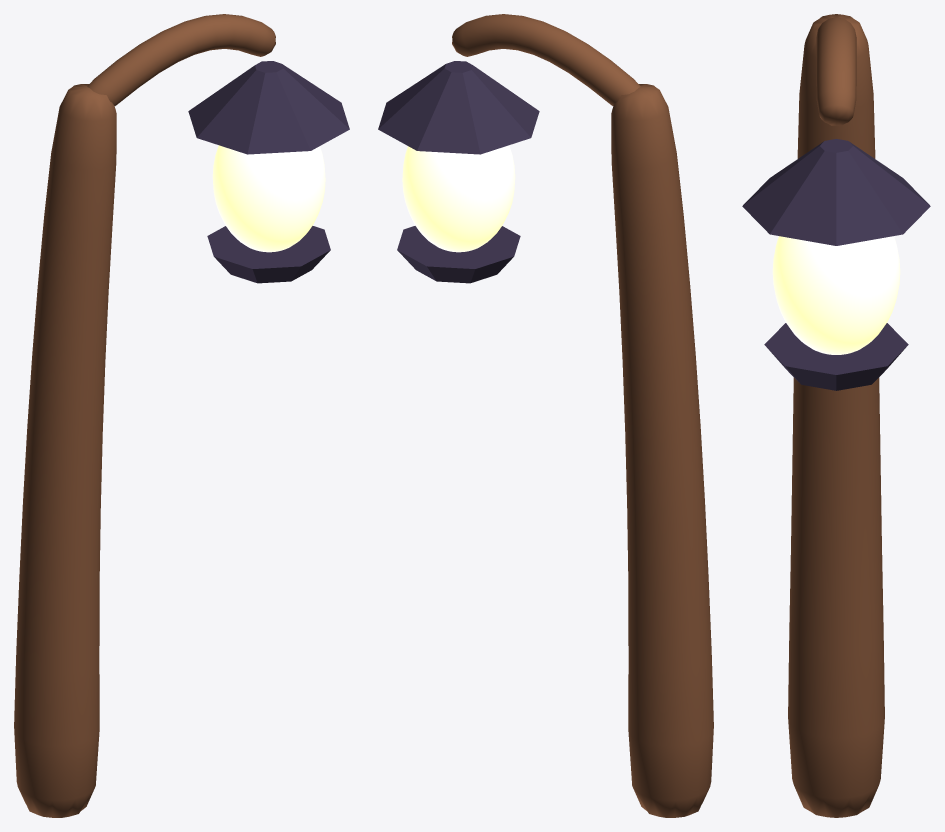
File: lantern_post.glb
The picture shows the model from 3 angles, left to right: view 1: azimuth 30°, elevation 25°; view 2: azimuth 150°, elevation 25°; view 3: azimuth 270°, elevation 25°; orthographic projection. The views are drawn at different scales.
Parts seen in each view (by area): view 1: Post, LampTop, LampGlass, Arm, LampBottom; view 2: Post, LampTop, LampGlass, Arm, LampBottom; view 3: Post, LampTop, LampGlass, LampBottom, Arm.
Boxes of the visible parts, bbox=[...] form: Post: bbox=[14, 84, 116, 817]; LampTop: bbox=[188, 61, 349, 154]; LampGlass: bbox=[212, 145, 325, 252]; Arm: bbox=[87, 14, 275, 105]; LampBottom: bbox=[207, 226, 330, 283]; Post: bbox=[611, 84, 713, 817]; LampTop: bbox=[378, 61, 539, 154]; LampGlass: bbox=[402, 145, 515, 252]; Arm: bbox=[452, 14, 640, 105]; LampBottom: bbox=[397, 226, 520, 283]; Post: bbox=[788, 14, 884, 817]; LampTop: bbox=[742, 139, 930, 245]; LampGlass: bbox=[772, 236, 900, 354]; LampBottom: bbox=[764, 323, 908, 390]; Arm: bbox=[816, 17, 856, 125].
Size of the model in its own units: 0.7556 by 1.69 by 0.34.
